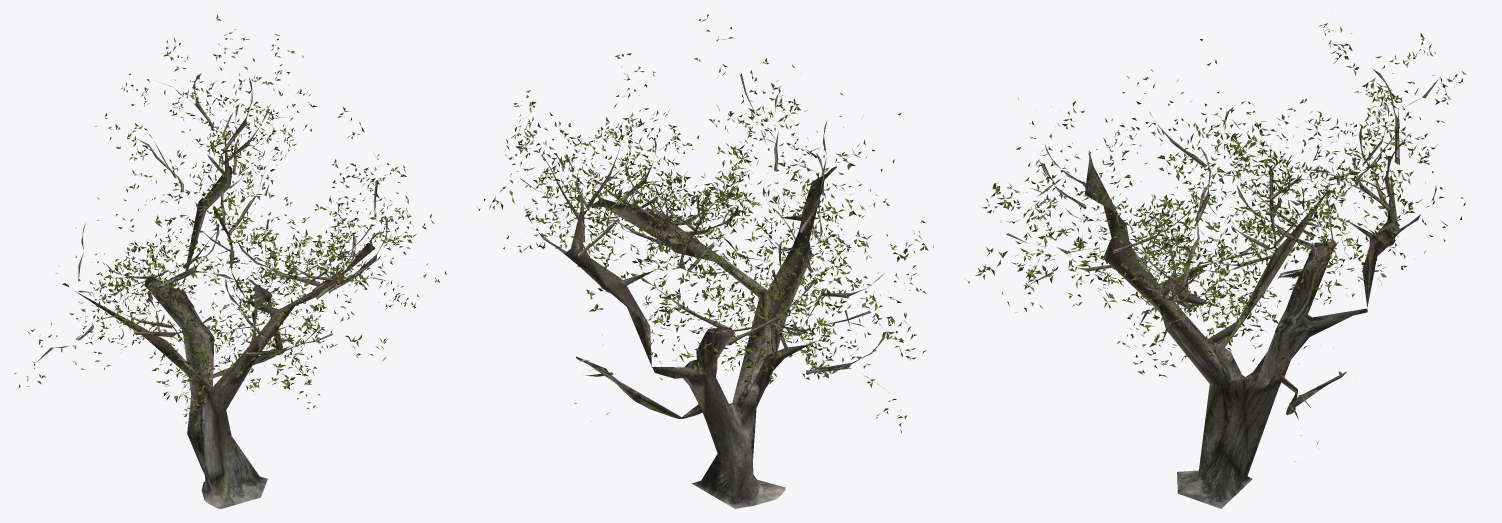
File: tree-far.glb
3 views of the same model, side by side, from view 1: azimuth 30°, elevation 25°; view 2: azimuth 150°, elevation 25°; view 3: azimuth 270°, elevation 25° (orthographic). The views are drawn at different scales.
Parts seen in each view (by area): view 1: island_tree_01_LOD0; view 2: island_tree_01_LOD0; view 3: island_tree_01_LOD0.
Part boxes in pixels (left/top/right/bottom): island_tree_01_LOD0: left=14, top=14, right=446, bottom=508; island_tree_01_LOD0: left=477, top=14, right=933, bottom=508; island_tree_01_LOD0: left=964, top=23, right=1465, bottom=508.
Size of the model in its own units: 4.69 by 4.98 by 4.73.
Materials: 3 (3 with a texture image).
